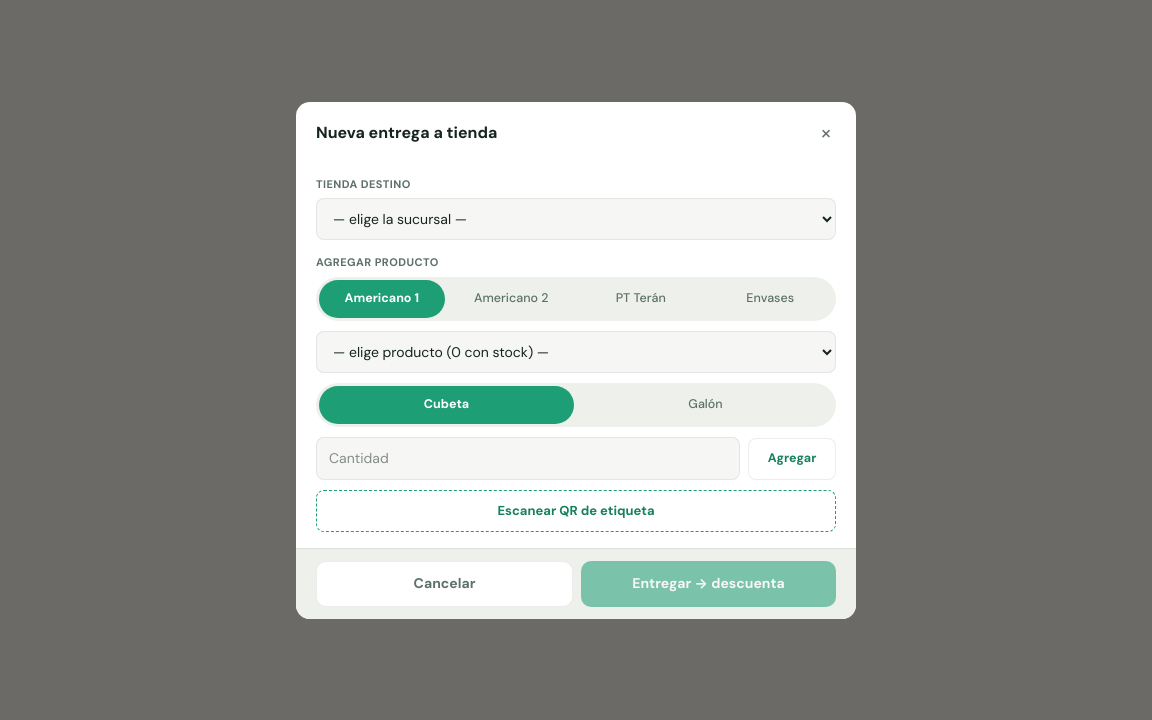
Scenario: Nueva entrega · fuente Envases › el tope es el stock de Terán del envase, con mensaje claro
Click the button "Envases" at (770, 298), box [708,280,833,318]
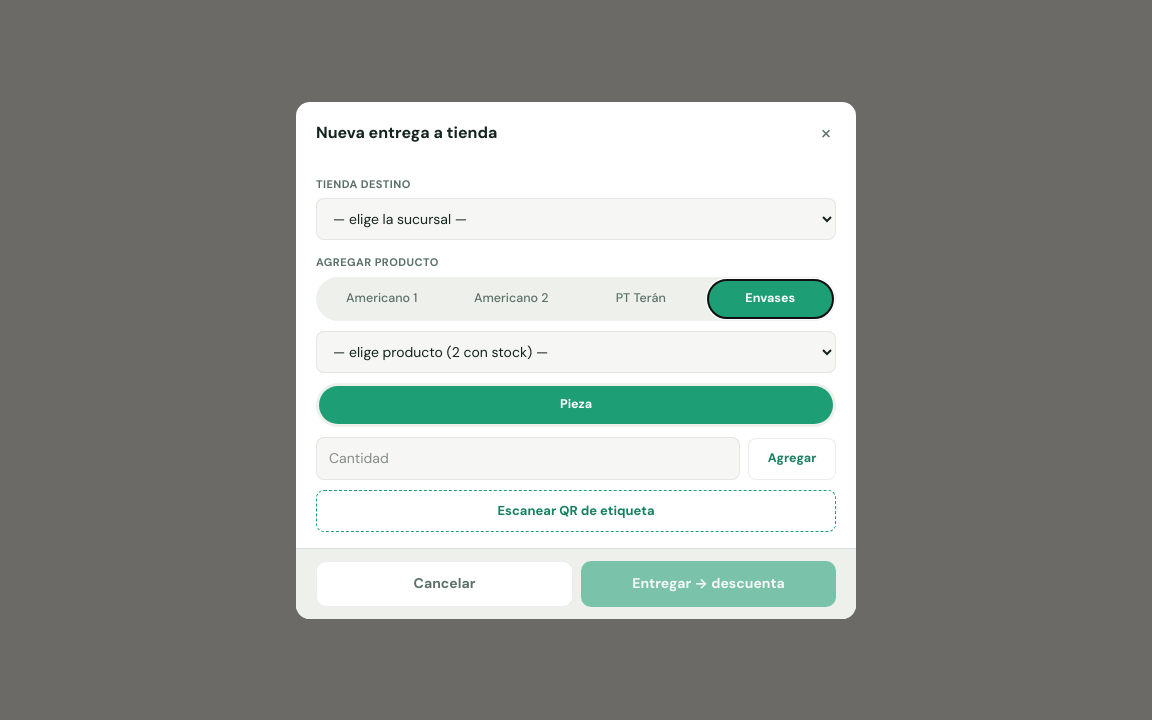
Select "Cubeta 19 L · 30 piezas" in the 2nd dropdown at (576, 352), box [316,330,836,372]
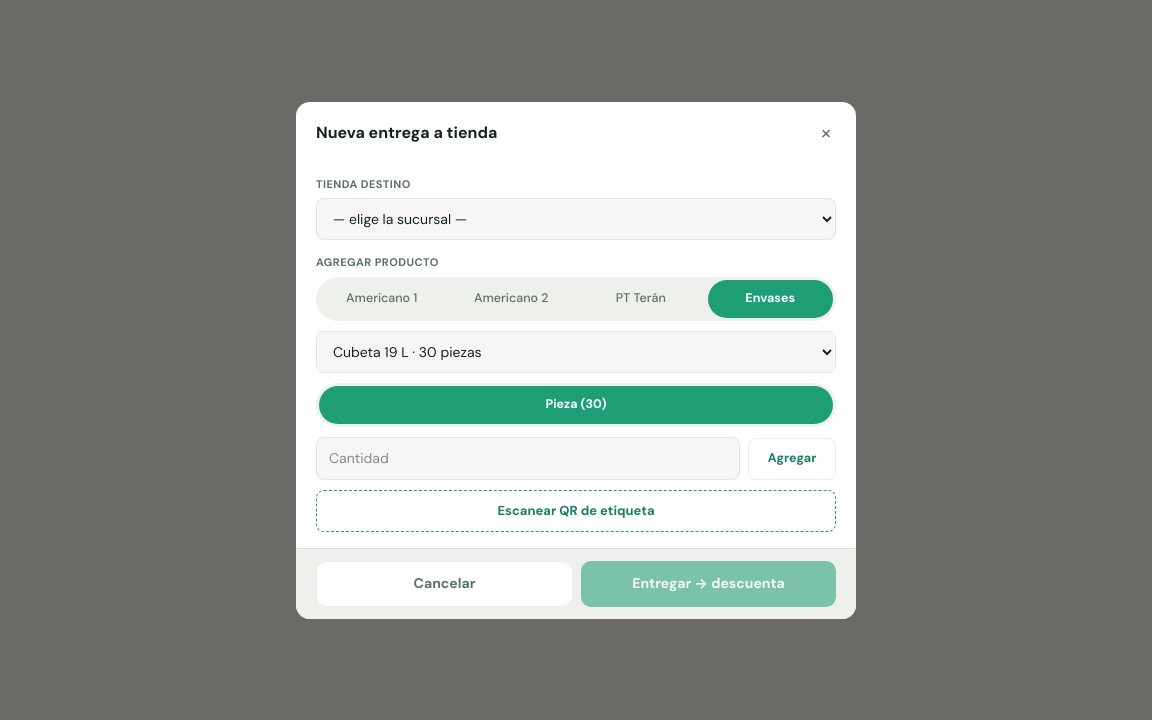
Type "999" into the number field with placeholder "Cantidad" at (528, 458), box [316,436,740,480]
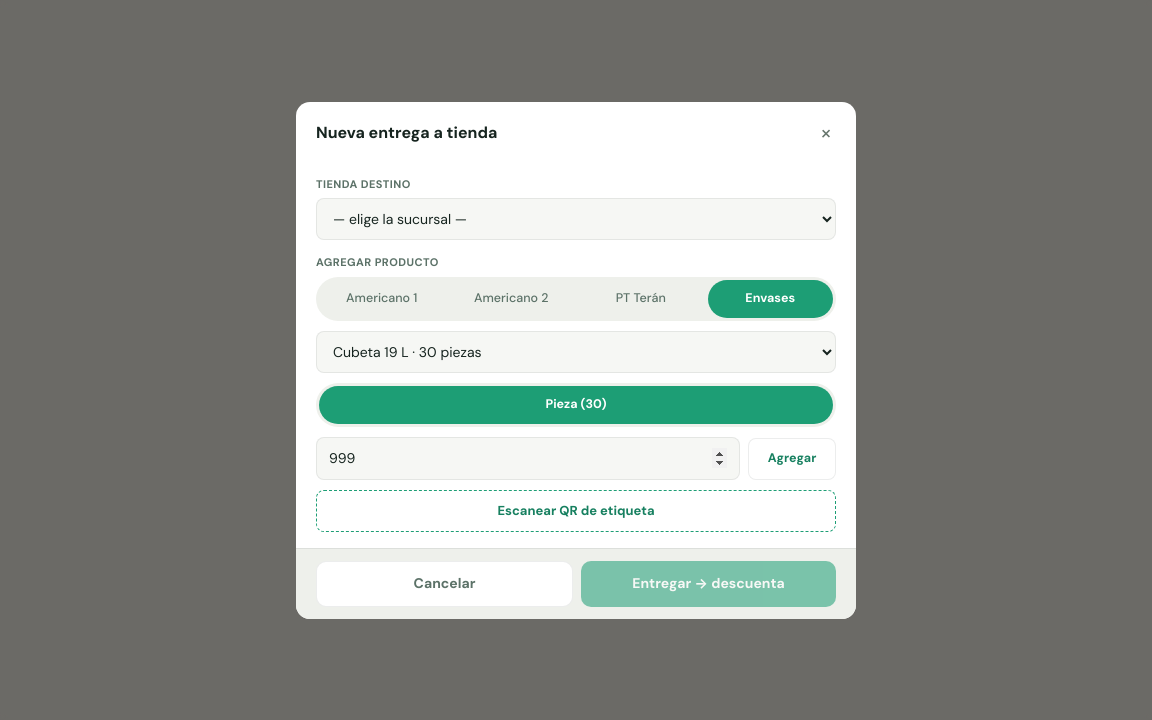
Click the button "Agregar" at (792, 458), box [748,438,836,480]
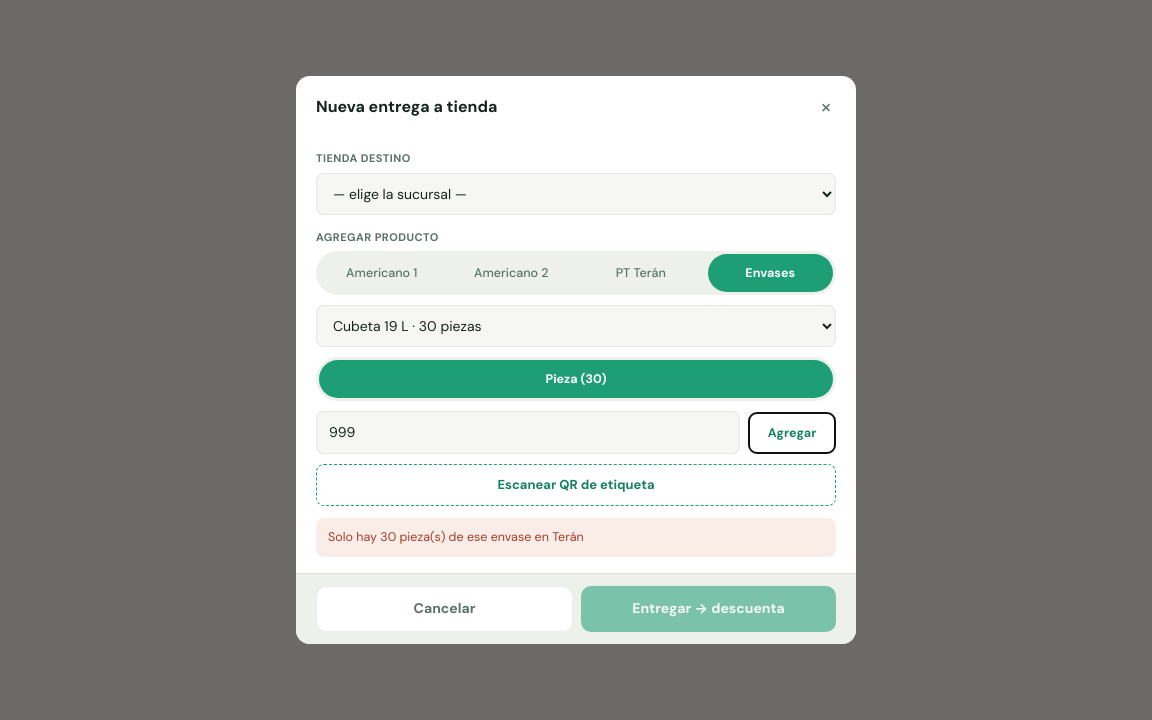
Expected: the text "Solo hay 30 pieza(s) de ese envase en Terán" is shown, [316,518,836,557]
